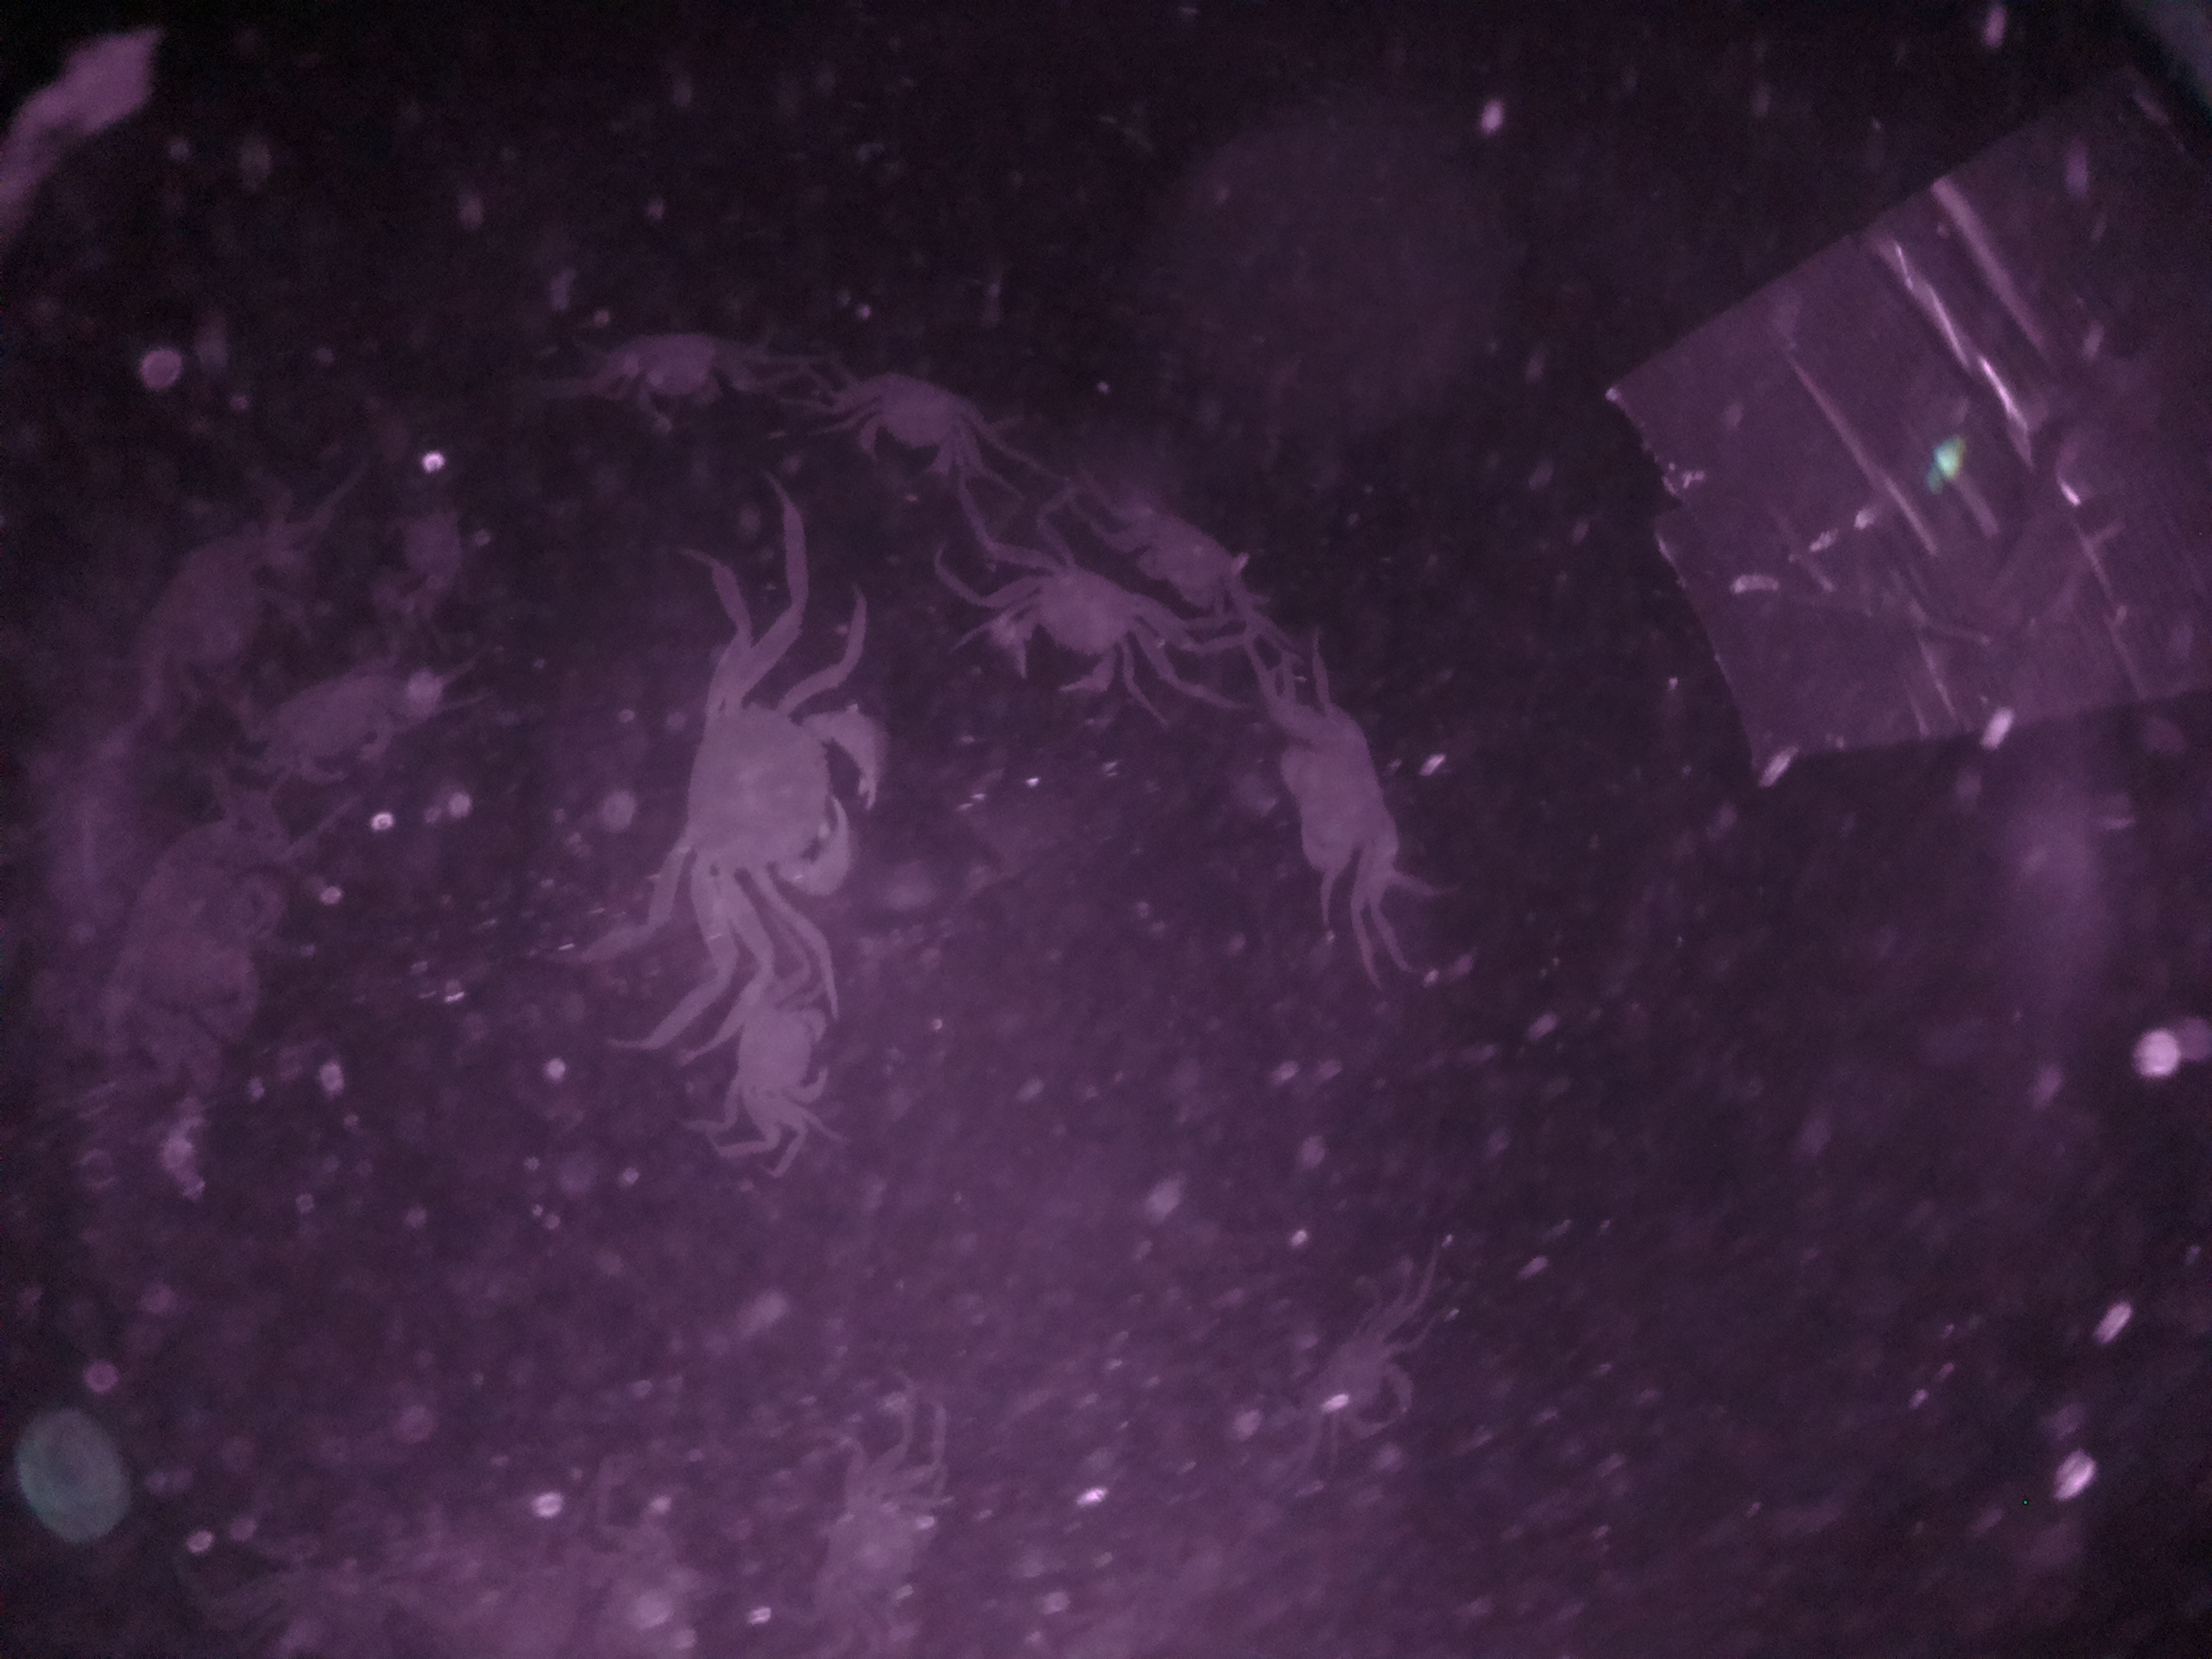Crab: (658, 660, 911, 922), (1261, 694, 1420, 910), (968, 544, 1162, 701), (845, 359, 998, 488), (718, 978, 840, 1138)
